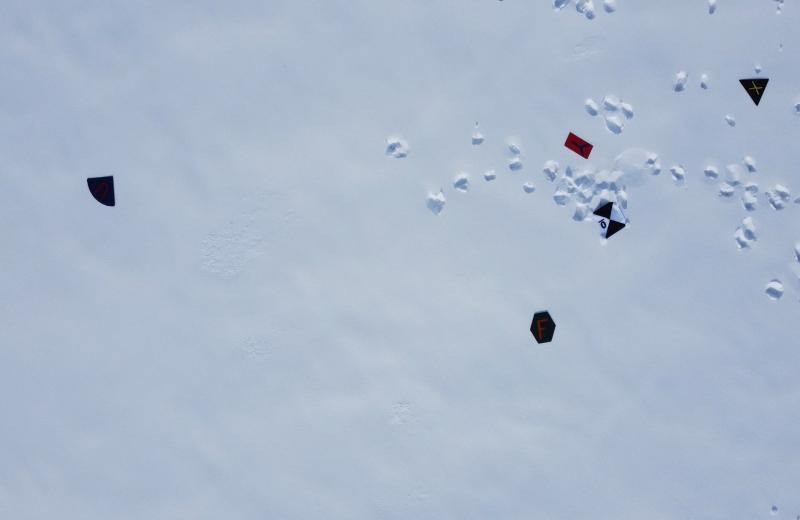Hexagon: (528, 307, 558, 347)
Quarter Circle: (84, 171, 118, 211)
Rectangle: (561, 126, 596, 166)
Triangle: (734, 72, 771, 111)
